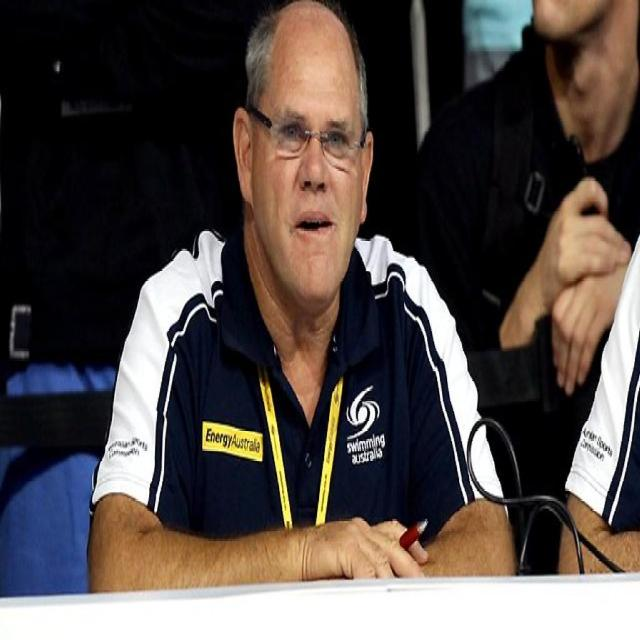Face: (241, 3, 383, 325)
